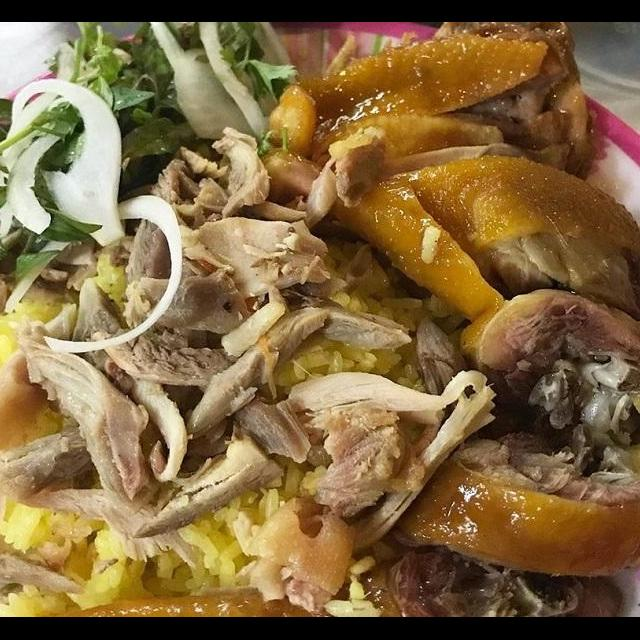com: (264, 234, 432, 400), (0, 468, 159, 617), (152, 469, 286, 604), (0, 288, 57, 412)
rau ram: (29, 23, 300, 142), (0, 68, 109, 295)
thit ga: (0, 121, 422, 571), (259, 27, 640, 349), (383, 280, 640, 586)
